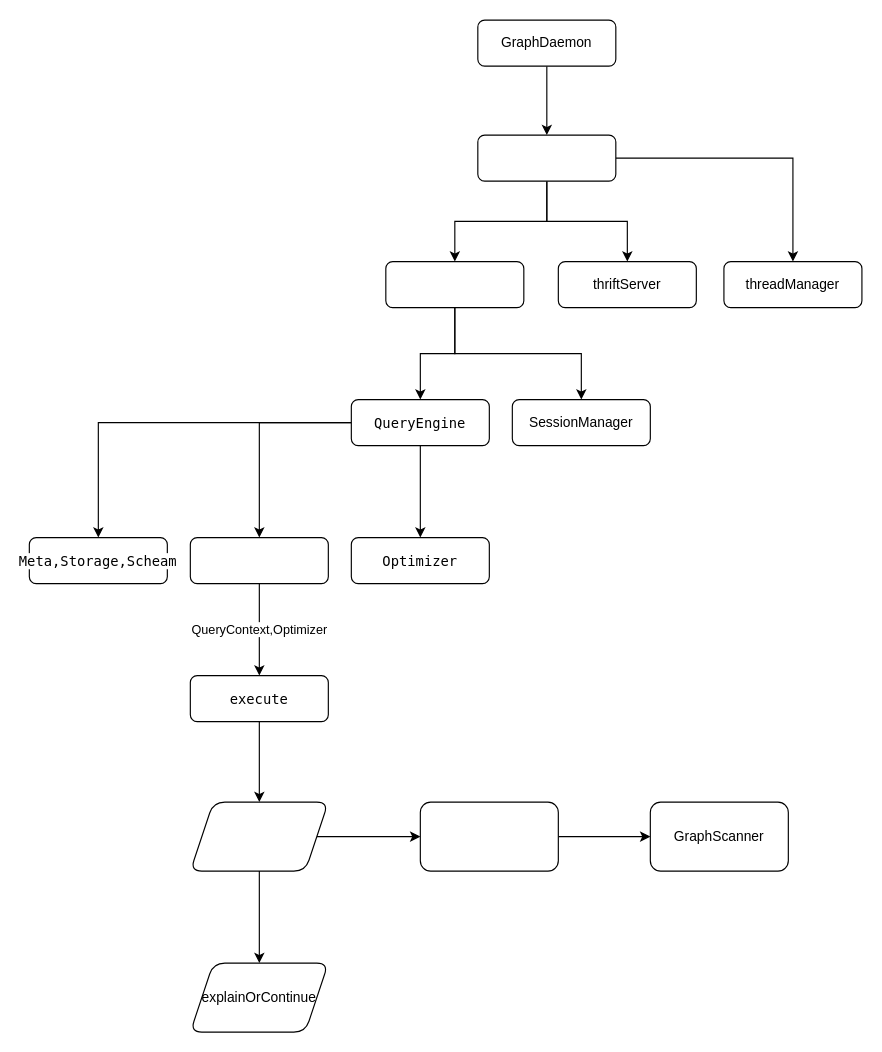
Some shapes in this 882 by 1052 pixel diagram are drawn without their labels. The centre of each missing label's shape, as x and y in pixels:
GQLParser: [488,836]
GraphServer: [546,157]
GraphService: [454,284]
QueryInstance: [258,560]
validateAndOptimize: [258,836]
